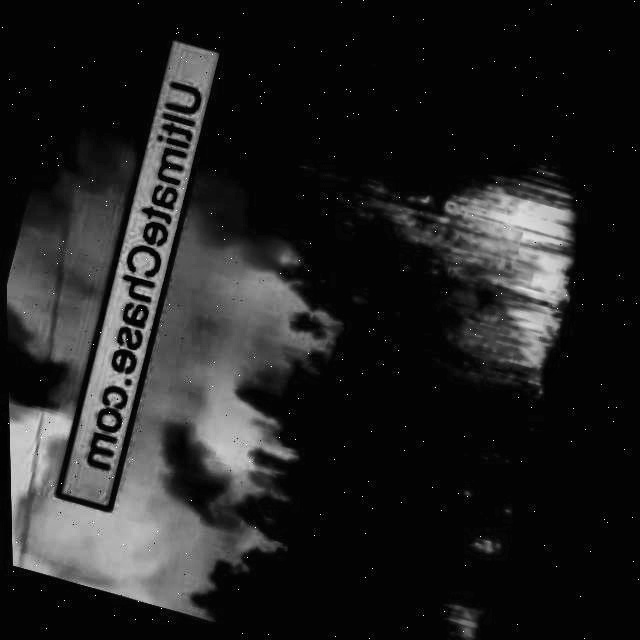Fire: (72, 1, 419, 635), (0, 0, 193, 572), (399, 163, 591, 389), (428, 595, 486, 640), (460, 524, 501, 567)
